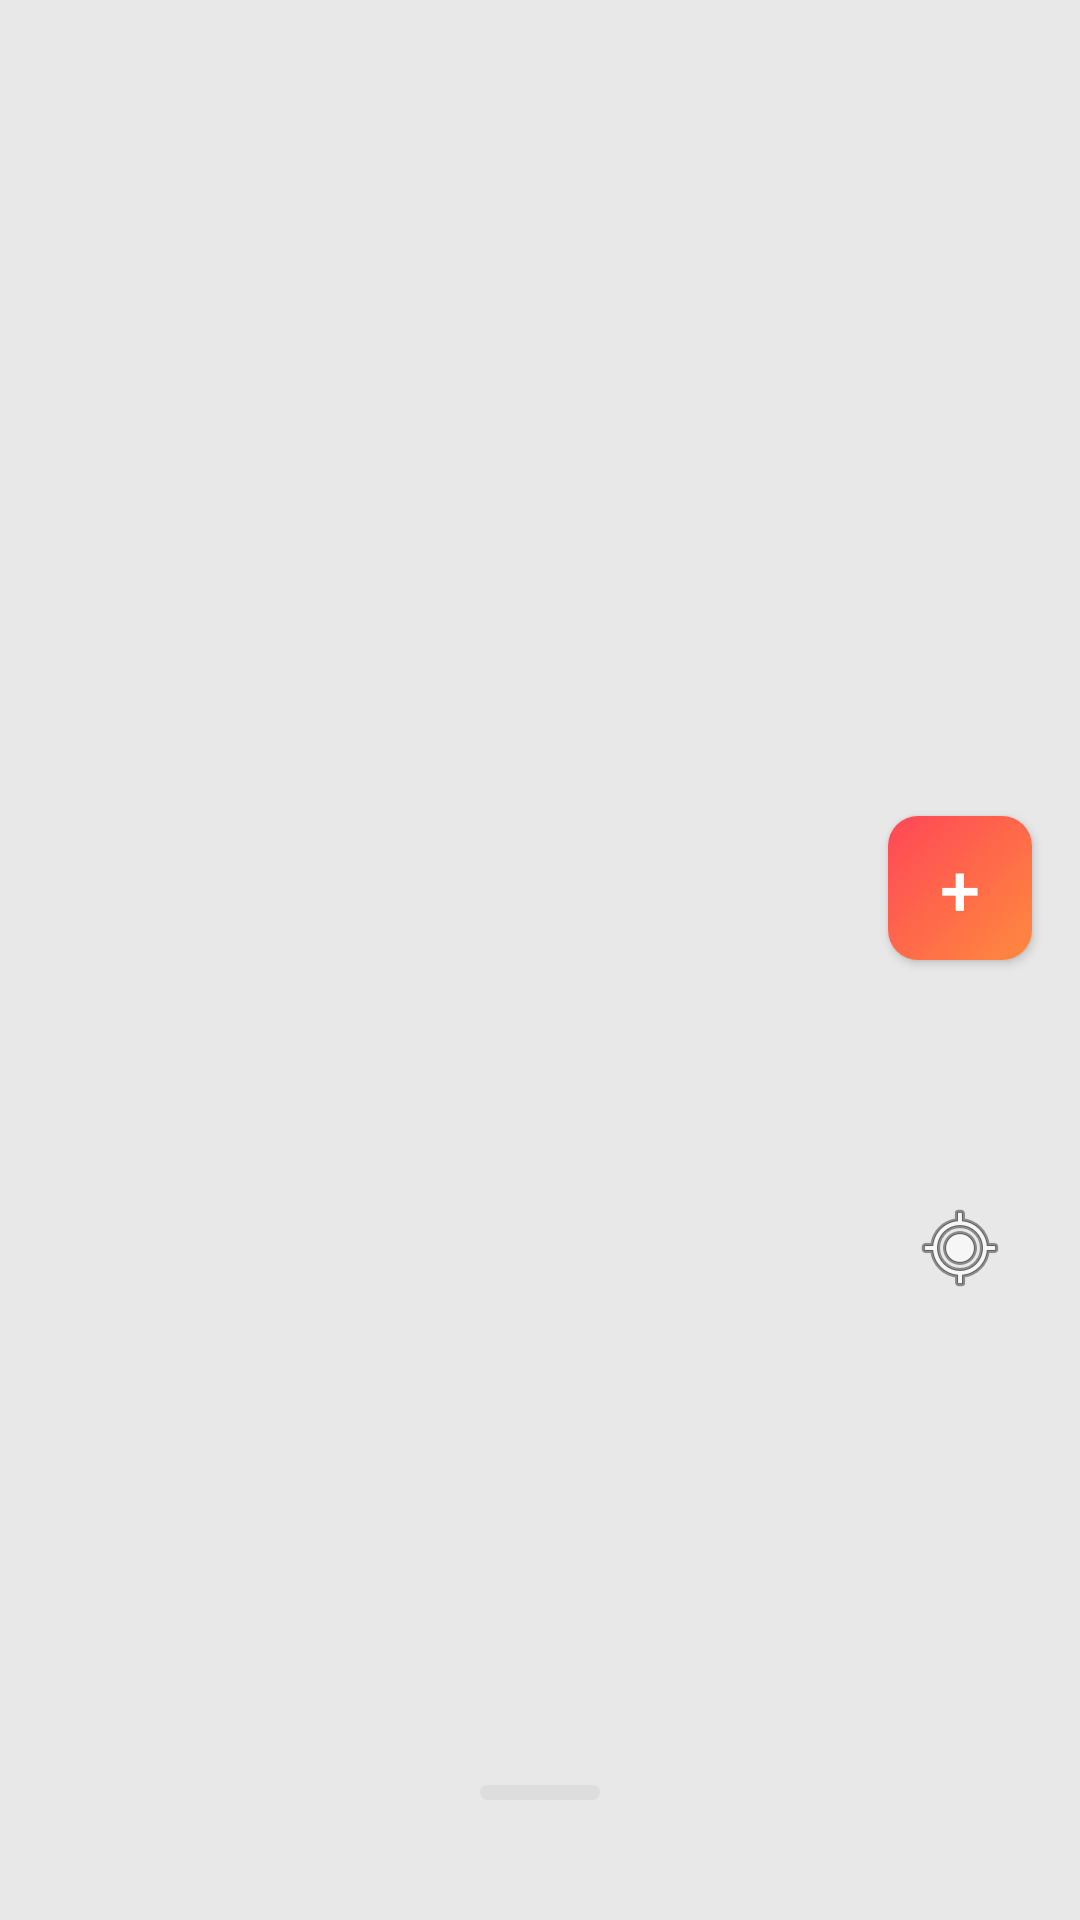

Icon click points for this 1080w x 1920h phone screenshot, format (x=x, y=y):
定位: (x=960, y=1248)
